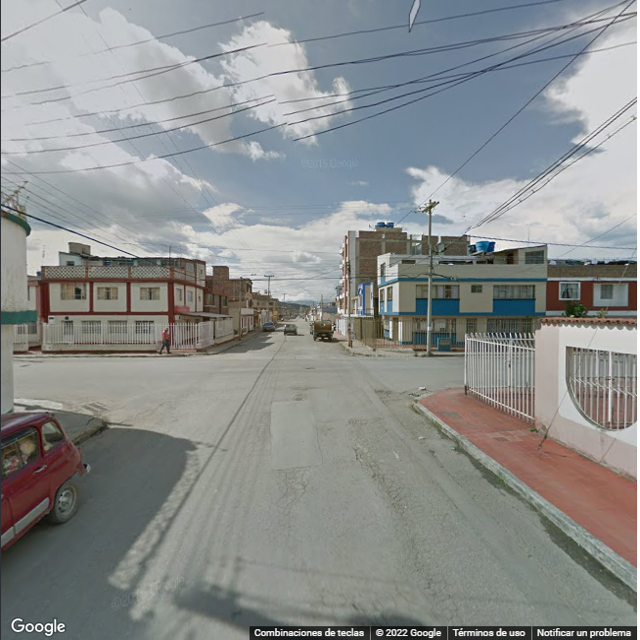D00: (428, 447, 500, 529), (298, 549, 318, 600)
D20: (349, 423, 460, 621), (281, 461, 312, 514)
